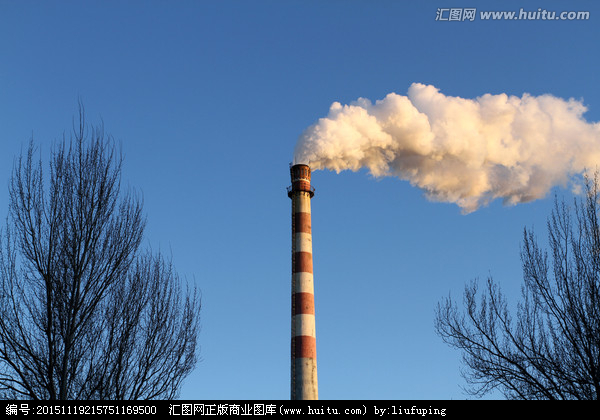dust: (283, 78, 570, 193)
